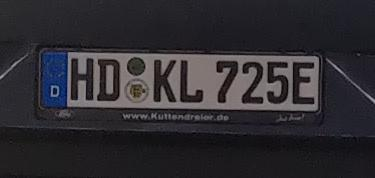2: (240, 60, 265, 105)
5: (266, 59, 290, 105)
7: (214, 58, 239, 105)
D: (95, 56, 121, 102)
E: (291, 59, 315, 106)
H: (69, 55, 95, 101)
K: (151, 56, 177, 104)
L: (179, 58, 206, 104)
